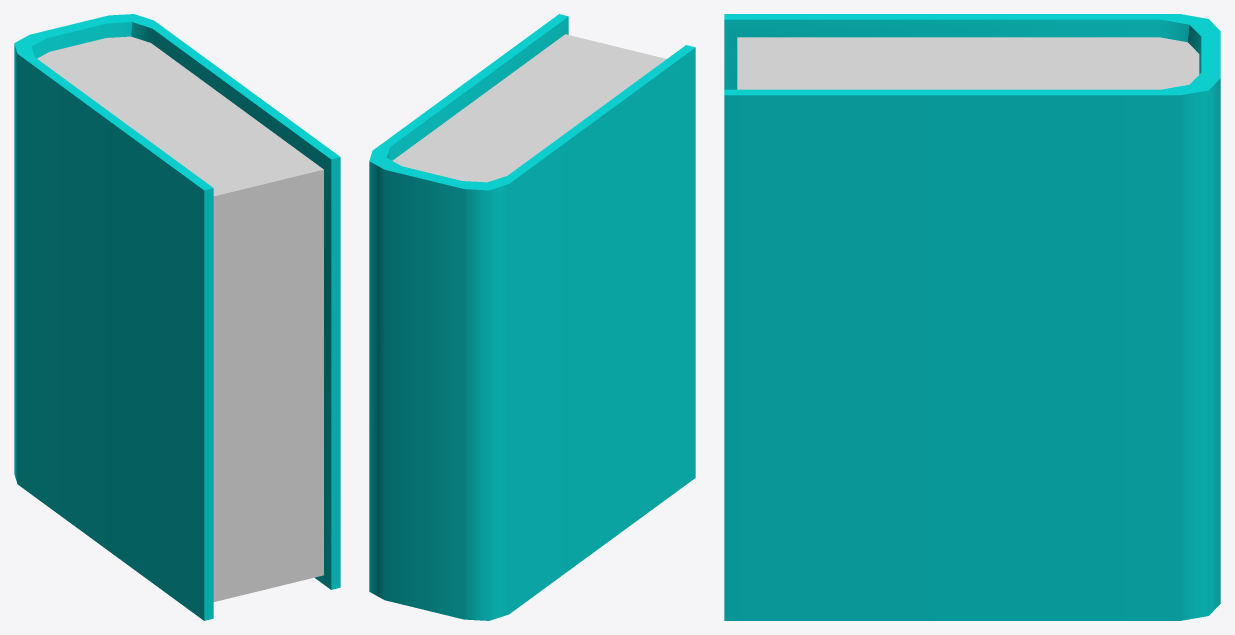
Rendered from Book.fbx.
3 views of the same model, side by side, from view 1: azimuth 30°, elevation 25°; view 2: azimuth 150°, elevation 25°; view 3: azimuth 270°, elevation 25° (orthographic). The views are drawn at different scales.
Visible parts, largest first — view 1: Book1; view 2: Book1; view 3: Book1.
Boxes of the visible parts, x1,y1,x2,y2 form: Book1: (14,14,340,620); Book1: (369,14,695,620); Book1: (724,14,1220,620).
Bounding box in the file's own units: 6.62 × 19.96 × 17.07.
